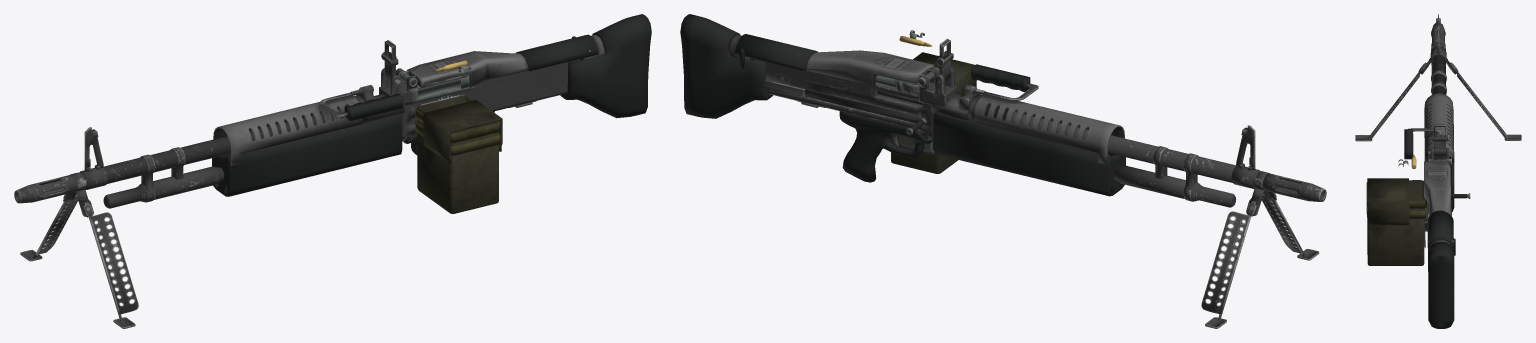
Rendered from m60_light_machine_gun.glb.
3 renders of one model, left to right at view 1: azimuth 30°, elevation 25°; view 2: azimuth 150°, elevation 25°; view 3: azimuth 270°, elevation 25°, orthographic. The views are drawn at different scales.
Parts seen in each view (by area): view 1: Object_2; view 2: Object_2; view 3: Object_2.
Part boxes in pixels (box(x1,y1,x2,y2)): Object_2: box(14, 14, 651, 328); Object_2: box(680, 14, 1326, 328); Object_2: box(1355, 14, 1521, 328).
Size of the model in its own units: 146 by 37.57 by 41.26.
Materials: 1 (1 with a texture image).
